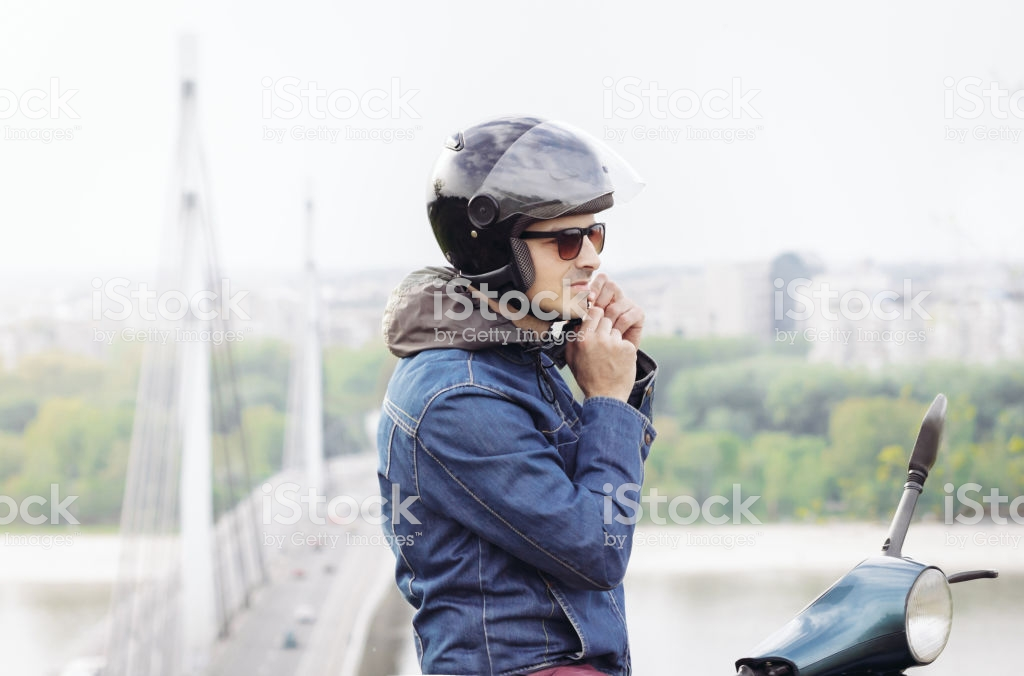helmet: (431, 117, 620, 278)
